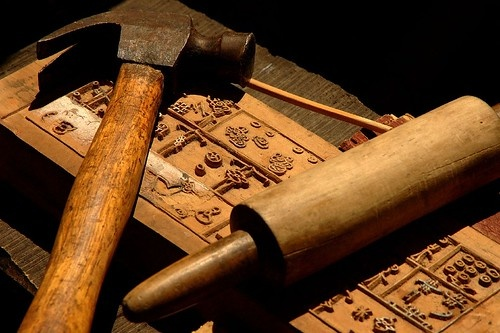hammer: (16, 16, 264, 333)
